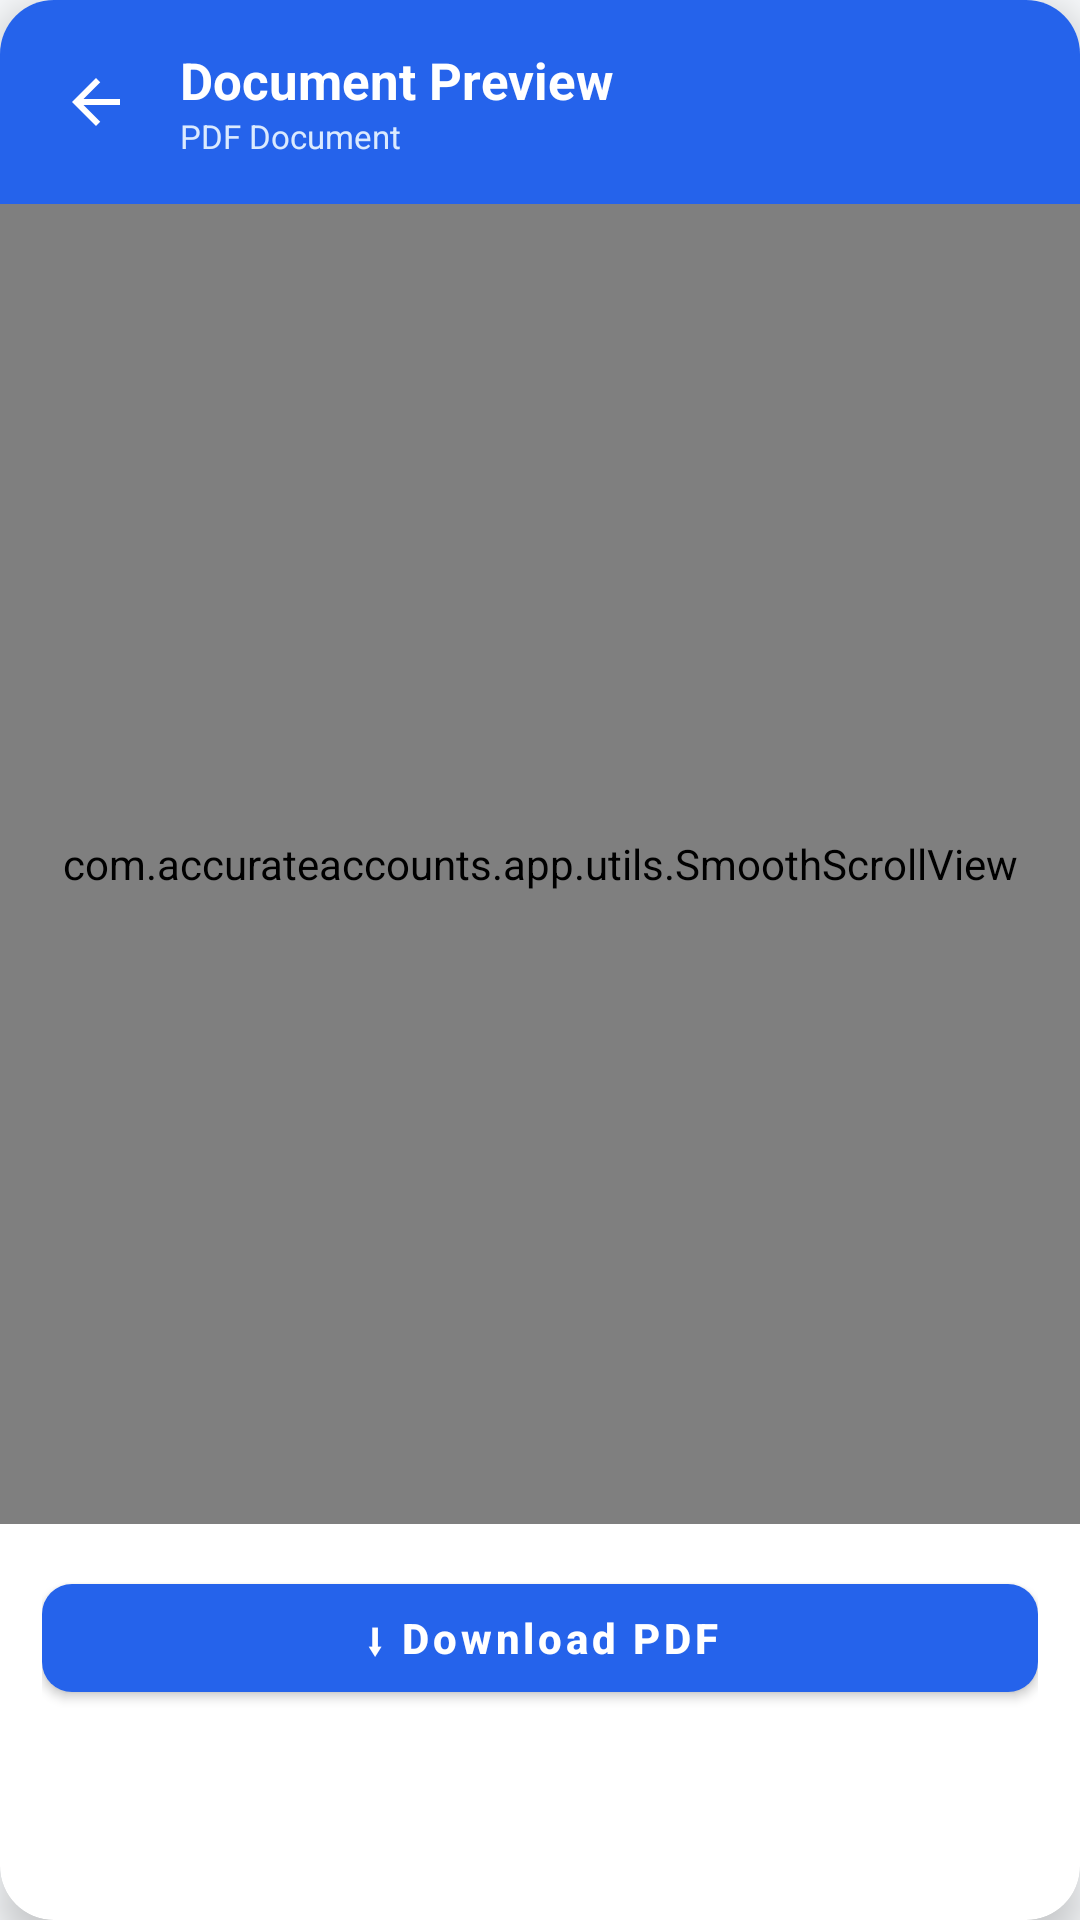

Icon bounding boxes for this 1080px x 1920px phone screenshot, format detection(x1, y1, x2, y2):
Back: detection(72, 78, 120, 126)
